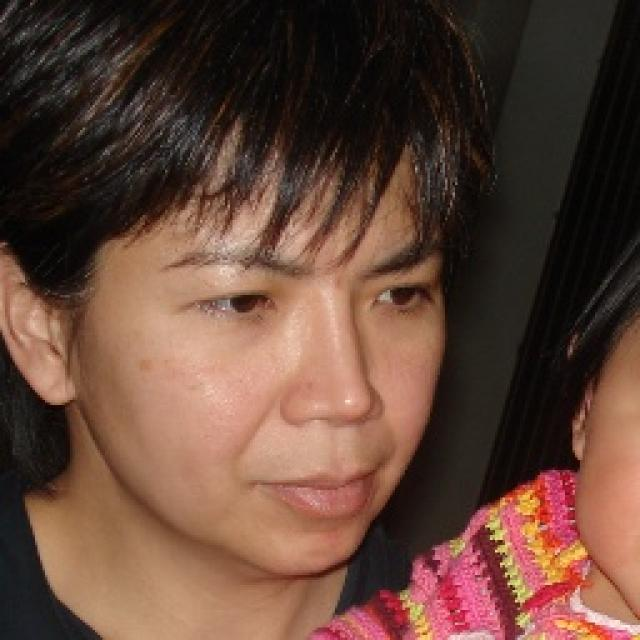earlobe: (24, 364, 76, 408), (570, 431, 586, 462)
eye: (198, 283, 276, 322), (372, 284, 434, 312)
nose: (286, 410, 376, 456)
wholeear: (0, 235, 72, 405), (563, 329, 598, 468)
